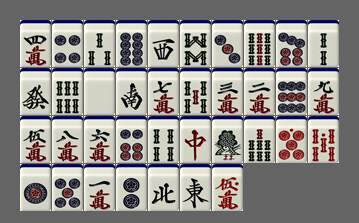0m: (212, 164, 243, 211)
0p: (276, 116, 307, 163)
0s: (308, 116, 339, 163)
1m: (84, 164, 115, 211)
1p: (20, 164, 51, 211)
1s: (212, 116, 243, 163)
1z: (180, 164, 211, 211)
2m: (244, 68, 275, 115)
2p: (116, 164, 147, 211)
2s: (308, 20, 339, 67)
2z: (116, 68, 147, 115)
3m: (212, 68, 243, 115)
3p: (212, 20, 243, 67)
3s: (84, 20, 115, 67)
3z: (148, 20, 179, 67)
4m: (20, 20, 51, 67)
4p: (52, 20, 83, 67)
4s: (148, 116, 179, 163)
4z: (148, 164, 179, 211)
5m: (20, 116, 51, 163)
5p: (52, 164, 83, 211)
5s: (180, 68, 211, 115)
5z: (84, 68, 115, 115)
6m: (84, 116, 115, 163)
6p: (116, 116, 147, 163)
6s: (52, 68, 83, 115)
6z: (20, 68, 51, 115)
7m: (148, 68, 179, 115)
7p: (276, 20, 307, 67)
7s: (244, 116, 275, 163)
7z: (180, 116, 211, 163)
8m: (52, 116, 83, 163)
8p: (116, 20, 147, 67)
8s: (180, 20, 211, 67)
9m: (308, 68, 339, 115)
9p: (276, 68, 307, 115)
9s: (244, 20, 275, 67)
